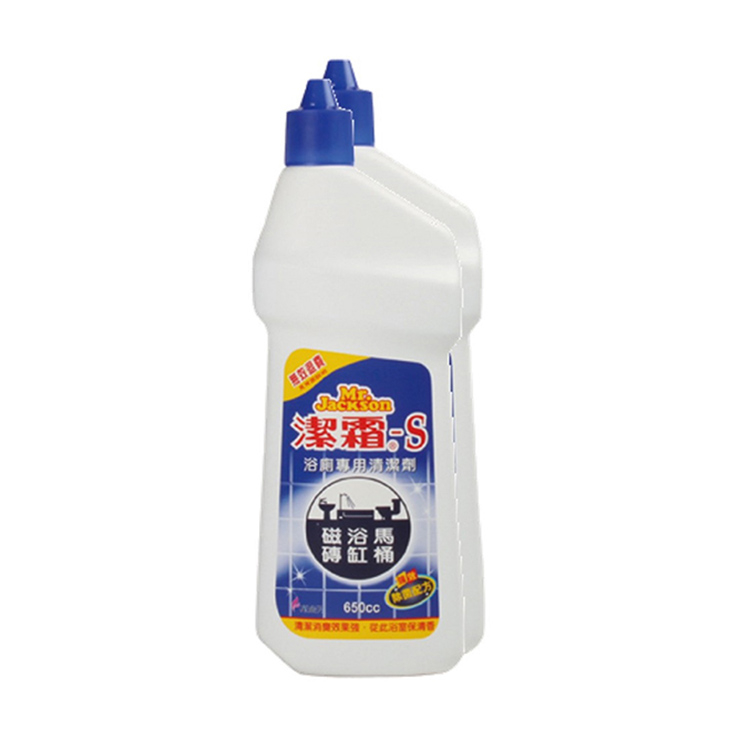cleaner: (228, 74, 467, 678), (308, 56, 496, 662)
